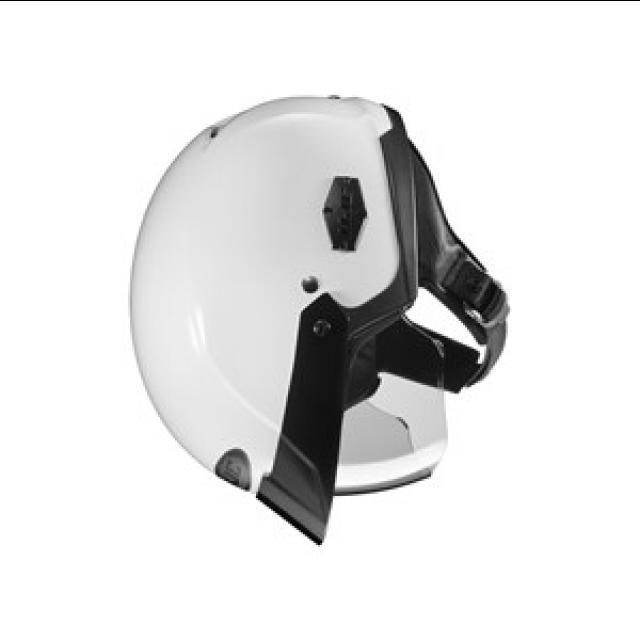safety_helmet: (128, 94, 512, 544)
